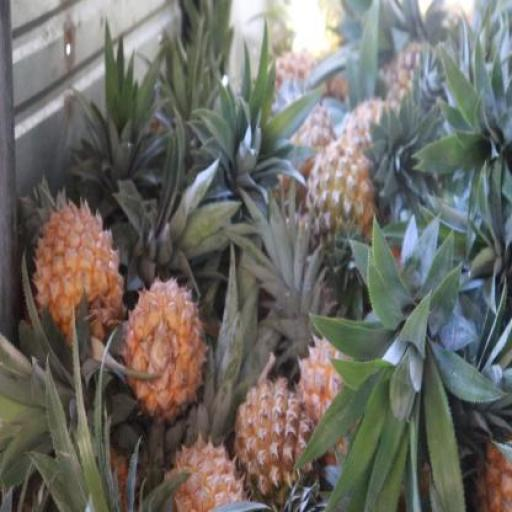Pineapple - v8 v1: (34, 202, 124, 348), (126, 278, 204, 412), (233, 378, 310, 509), (167, 432, 250, 512)
